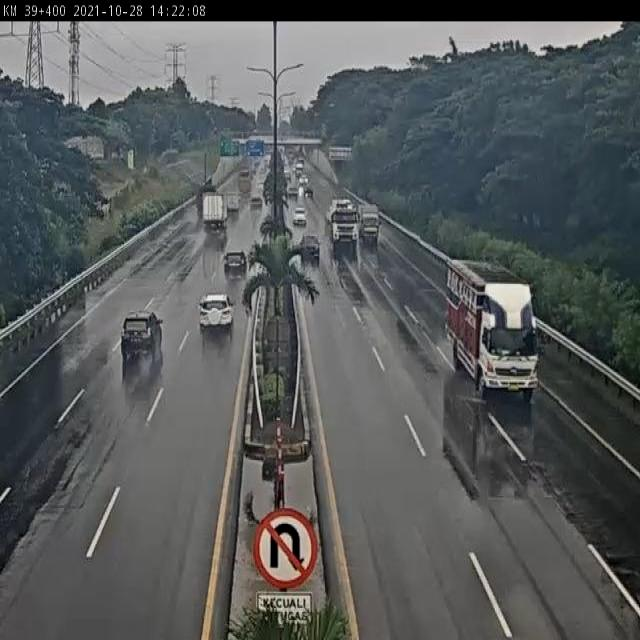Bus: (237, 168, 251, 196)
Car: (119, 308, 163, 362), (199, 294, 236, 337), (223, 249, 248, 280), (298, 234, 322, 262), (292, 206, 308, 226)
Truck: (443, 257, 544, 403), (327, 196, 360, 252), (357, 201, 382, 244), (202, 190, 229, 229), (226, 189, 241, 210)
